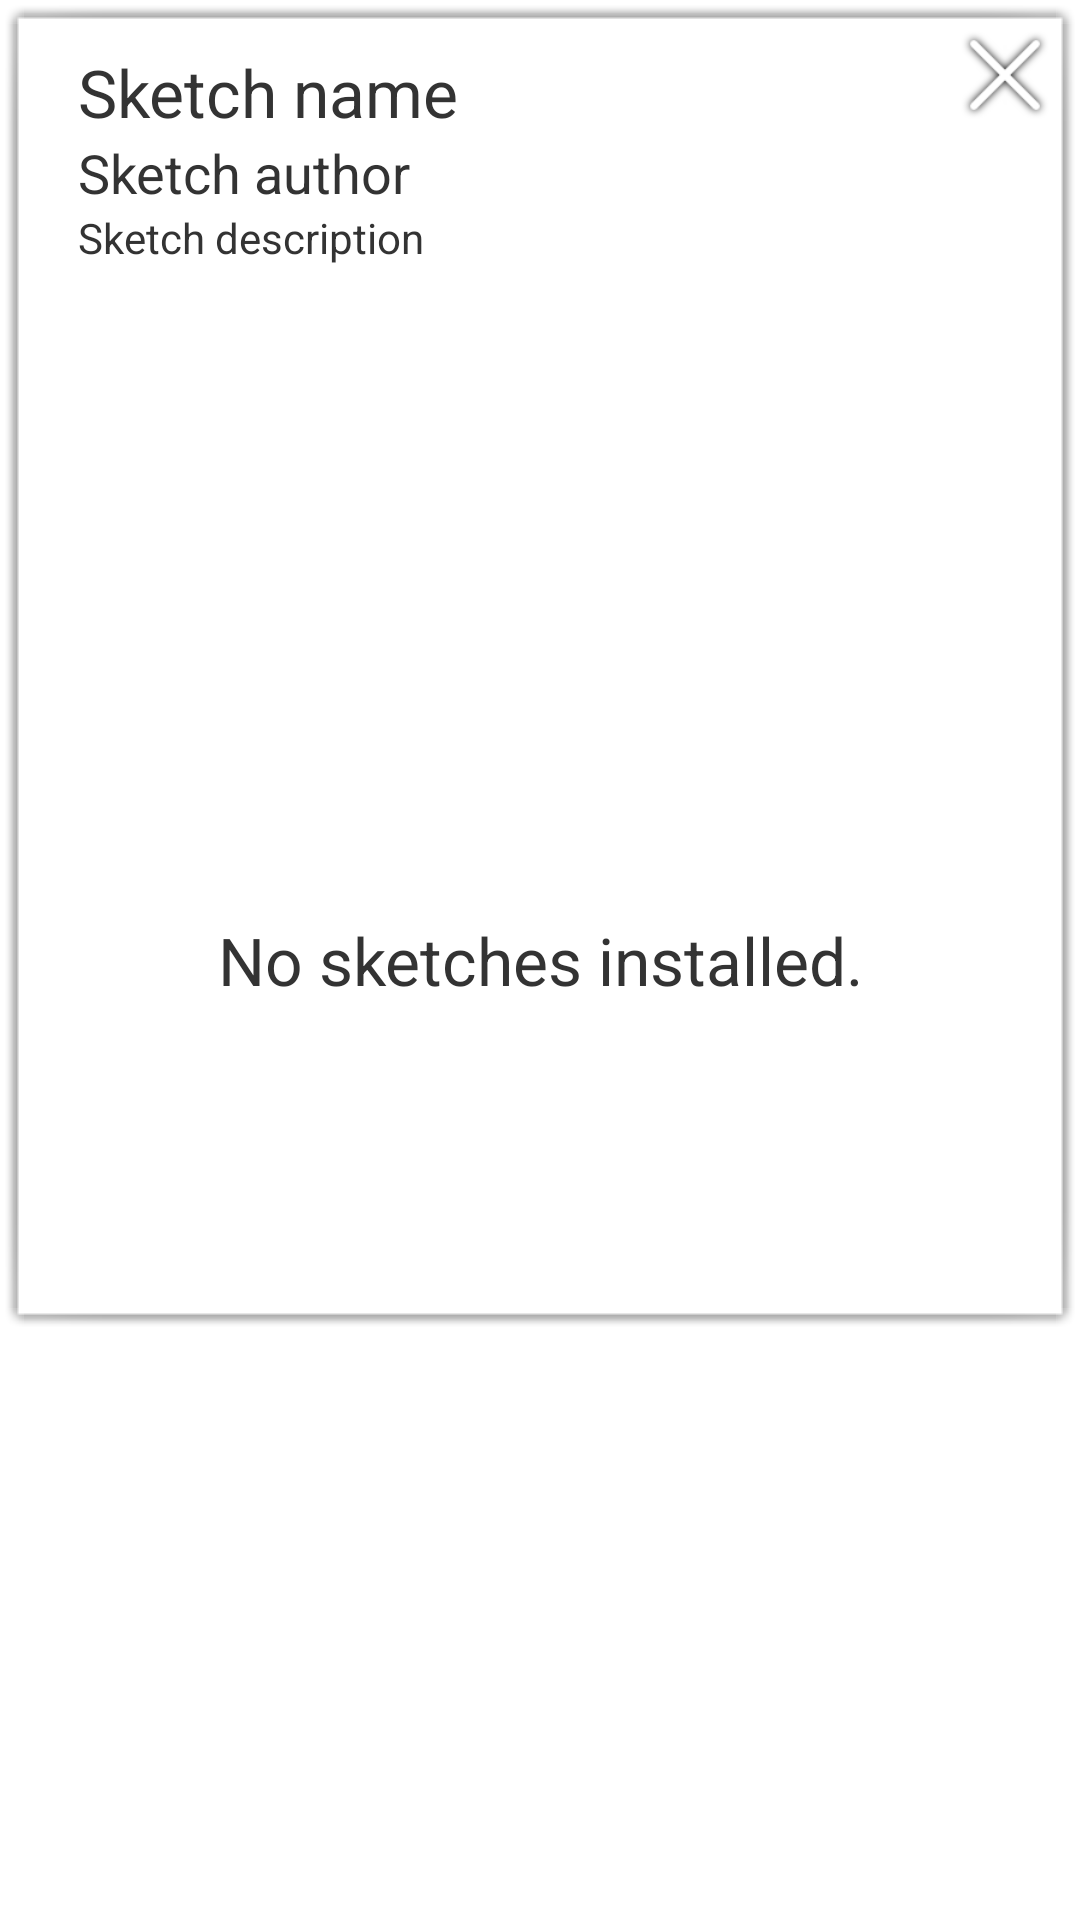

Screen size 1080 × 1920. Icon name, then its box in pixels as (x1, y1, x2, y2):
close: (930, 10, 1070, 150)
